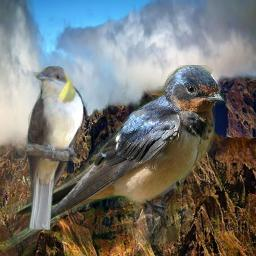Cuckoo: (24, 66, 84, 230)
Swallow: (2, 65, 226, 254)
